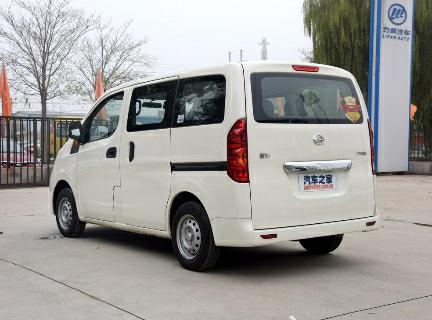广汽吉奥-星朗: (47, 58, 380, 269)
